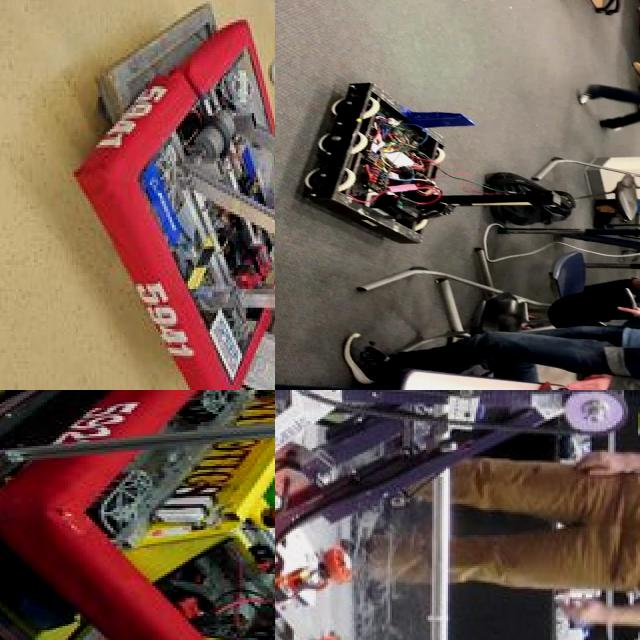FRC-Robots: (275, 390, 640, 640), (81, 27, 275, 390), (78, 390, 275, 640), (294, 80, 560, 250)
